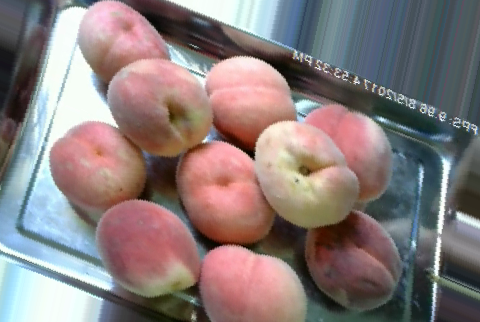Peach: (254, 119, 360, 227), (95, 199, 202, 302), (176, 138, 273, 246), (106, 57, 211, 155), (303, 209, 402, 308), (47, 119, 148, 212), (301, 103, 392, 203), (204, 54, 296, 149), (199, 243, 302, 322), (77, 0, 170, 85)
